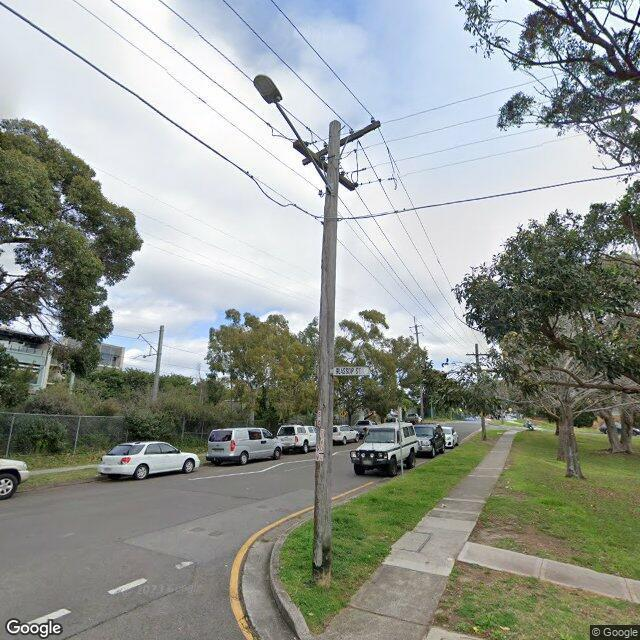HV-transmission: (409, 316, 423, 336)
crossarm: (302, 120, 381, 166), (292, 139, 357, 192), (466, 353, 490, 356), (409, 325, 422, 328), (413, 332, 422, 334)
streetlight: (254, 74, 337, 200)
timber-pole: (311, 120, 343, 586), (151, 324, 166, 405), (475, 344, 487, 441), (415, 324, 424, 420)
